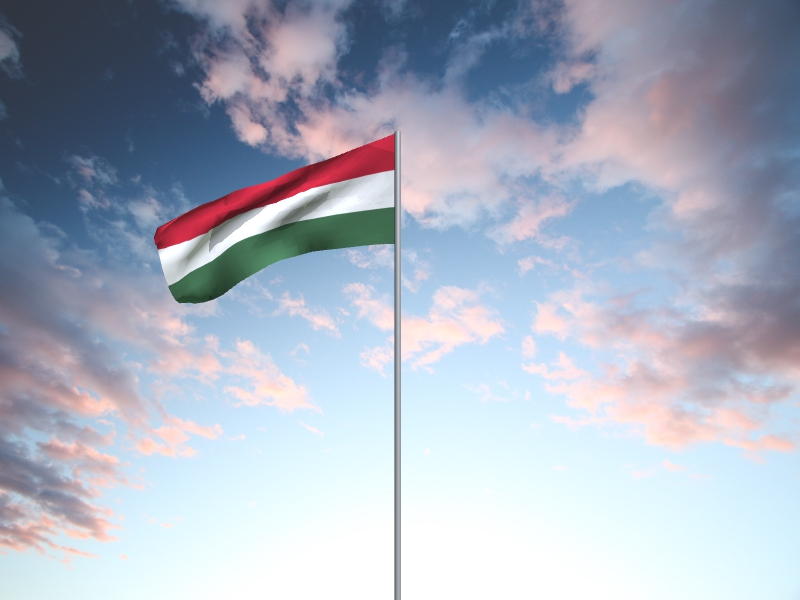hu: (154, 134, 395, 305)
